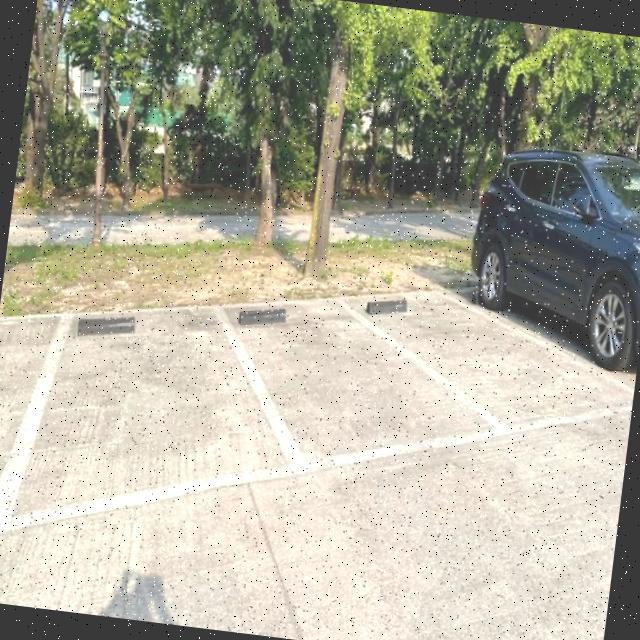empty: (32, 276, 248, 531), (226, 280, 391, 478), (368, 278, 544, 396)
